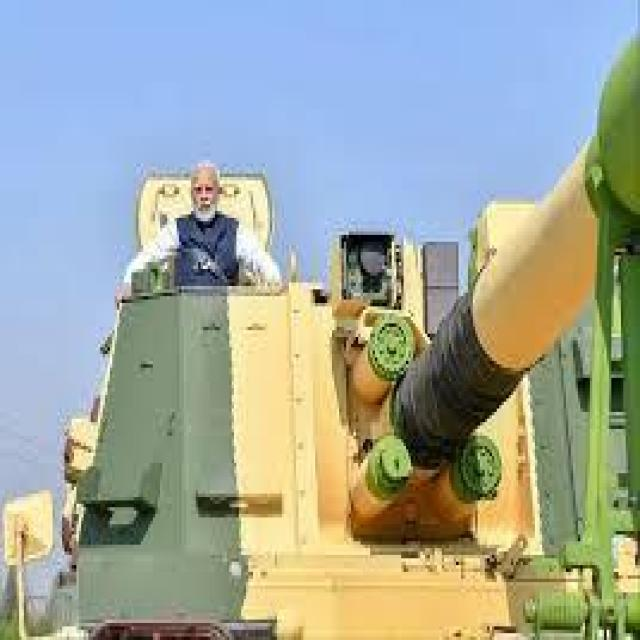Tanks: (76, 170, 574, 633)
